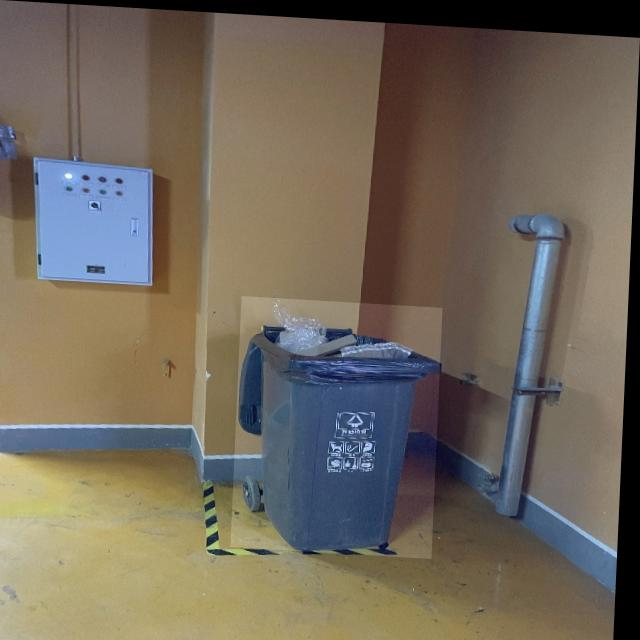overflow: (235, 293, 445, 553)
